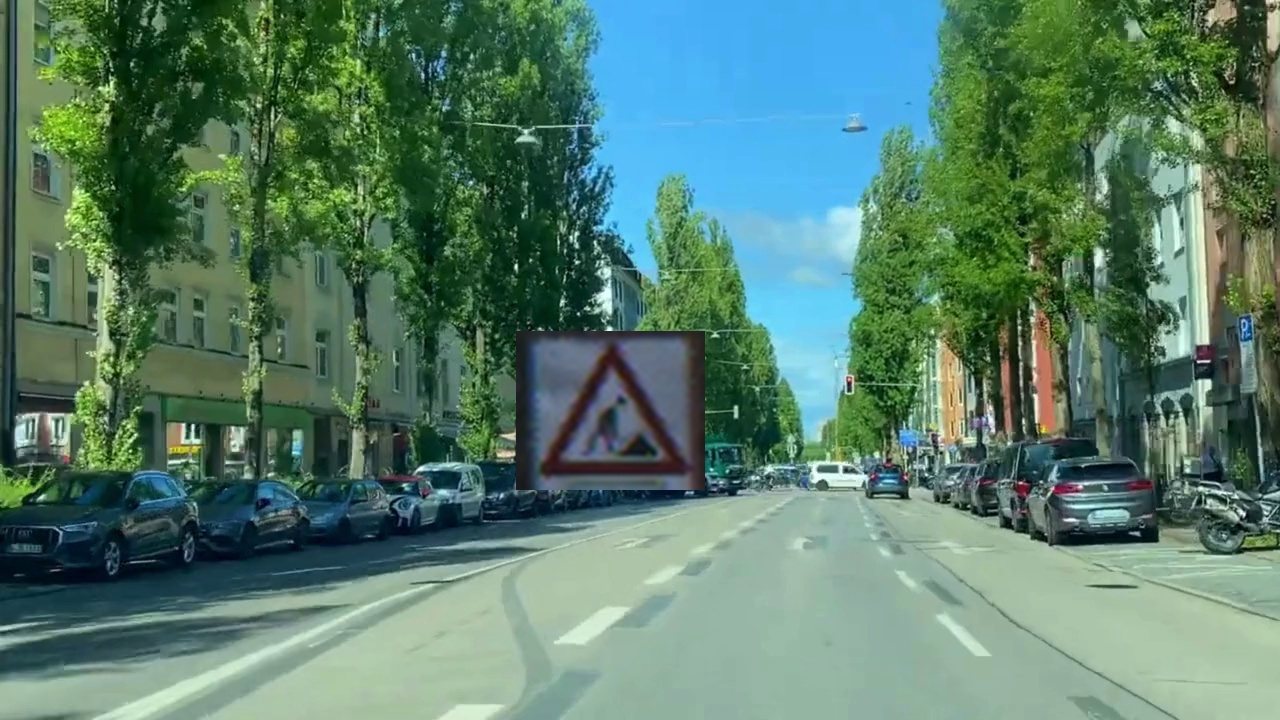Road work: (516, 331, 705, 490)
